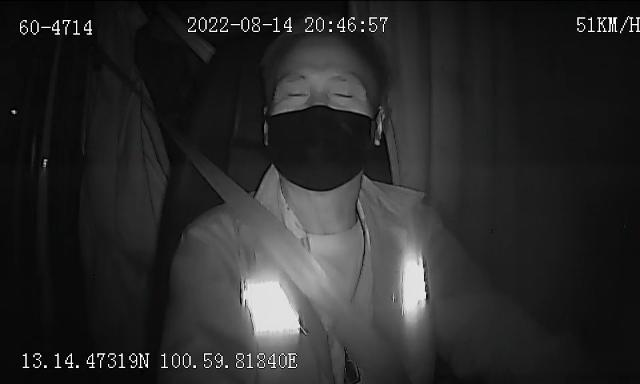Seatbelt: (188, 152, 410, 384)
